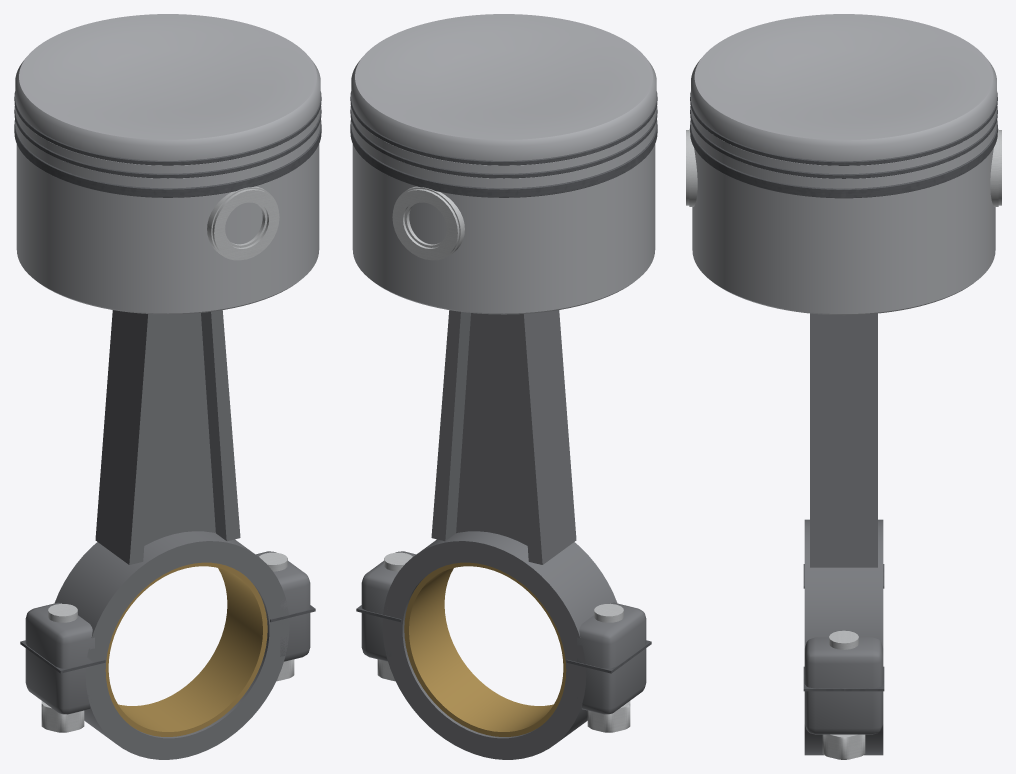
File: piston-with-rings-and-connecting-rod.glb
3 renders of one model, left to right at view 1: azimuth 30°, elevation 25°; view 2: azimuth 150°, elevation 25°; view 3: azimuth 270°, elevation 25°, orthographic.
Parts seen in each view (by area): view 1: Piston, Connecting rod, Big-end bearing shells, Piston rings, Gudgeon pin and circlips, Cap bolts, Cap split line; view 2: Piston, Connecting rod, Big-end bearing shells, Piston rings, Gudgeon pin and circlips, Cap bolts, Cap split line; view 3: Piston, Connecting rod, Piston rings, Cap bolts, Gudgeon pin and circlips.
Part boxes in pixels (<box>): Piston: <box>15,14,320,314</box>; Connecting rod: <box>25,310,310,759</box>; Big-end bearing shells: <box>105,562,267,736</box>; Piston rings: <box>14,91,321,197</box>; Gudgeon pin and circlips: <box>207,186,279,260</box>; Cap bolts: <box>41,552,294,732</box>; Cap split line: <box>20,605,315,673</box>; Piston: <box>351,14,656,314</box>; Connecting rod: <box>361,310,646,759</box>; Big-end bearing shells: <box>404,562,566,736</box>; Piston rings: <box>350,91,657,197</box>; Gudgeon pin and circlips: <box>392,186,464,260</box>; Cap bolts: <box>377,552,630,732</box>; Cap split line: <box>356,605,651,673</box>; Piston: <box>691,14,996,315</box>; Connecting rod: <box>804,313,883,755</box>; Piston rings: <box>690,92,997,198</box>; Cap bolts: <box>822,630,865,759</box>; Gudgeon pin and circlips: <box>686,128,1001,206</box>.
Bounding box in the file's own units: 0.0861 × 0.206 × 0.0884.
Materials: 5 (5 with a texture image).
